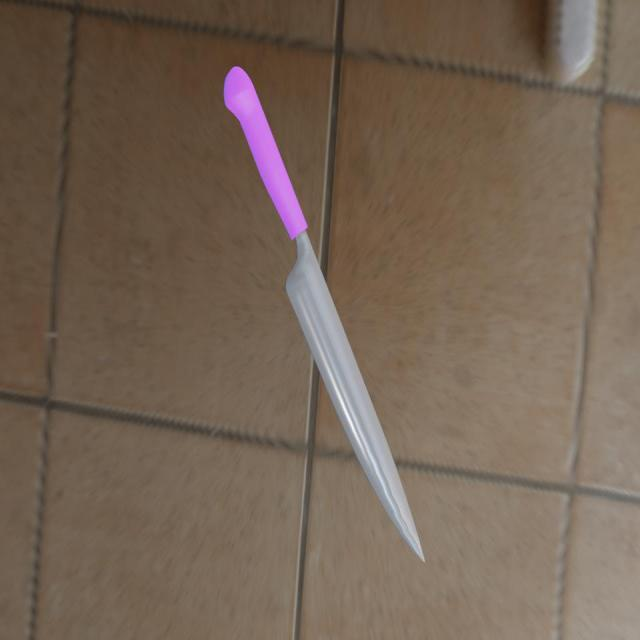knife: (224, 65, 307, 242)
